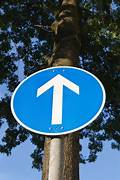forward: (10, 66, 105, 136)
